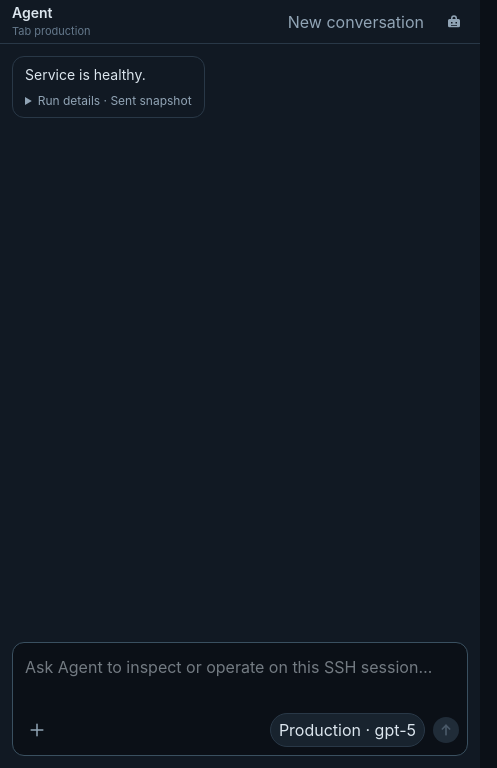
it: AgentWorkspace › renders assistant Run details from the sent snapshot
Expected: the text "Service is healthy." is shown, [25,66,146,83]
Click the heading "Run details · Sent snapshot".
click(108, 101)  # box [25,93,192,109]
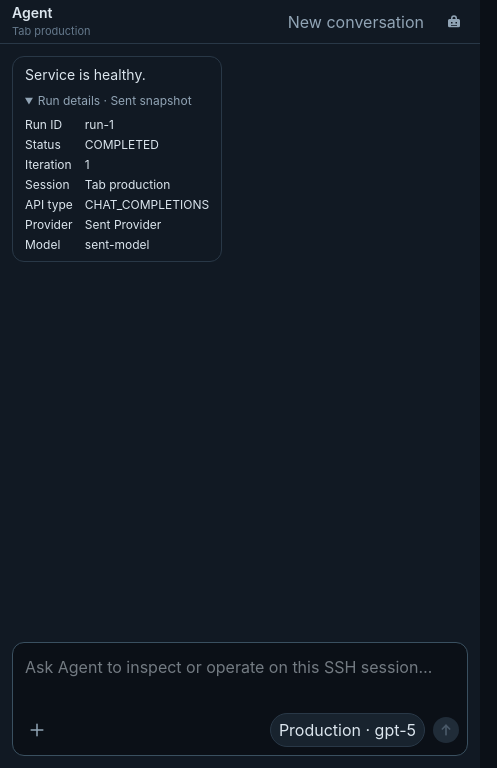
Expected: the text "Sent Provider" is shown, [85,217,161,232]
Expected: the text "sent-model" is shown, [85,237,149,252]
